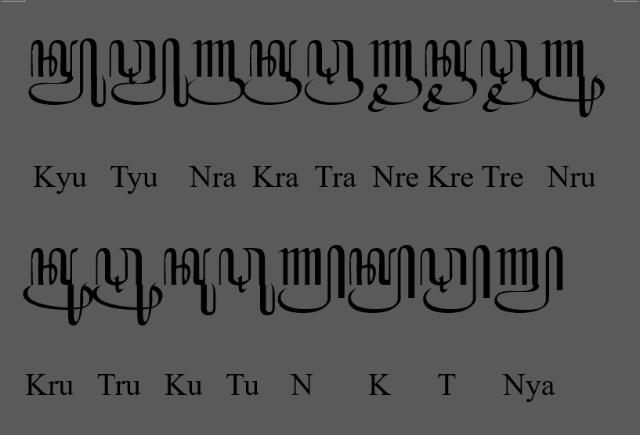-K: (348, 244, 417, 314)
-N: (276, 244, 346, 314)
-T: (419, 244, 491, 316)
Kr: (242, 40, 302, 107)
Kre: (422, 38, 478, 113)
Kru: (22, 247, 94, 326)
Ku: (164, 247, 216, 317)
Kyu: (28, 38, 108, 109)
Nr: (188, 38, 246, 106)
Nre: (368, 39, 422, 113)
Nru: (534, 40, 606, 118)
Ny: (495, 245, 565, 315)
Tr: (304, 39, 366, 107)
Tre: (479, 38, 536, 114)
Tru: (93, 247, 163, 326)
Tu: (218, 246, 276, 316)
Tyu: (109, 38, 189, 109)
